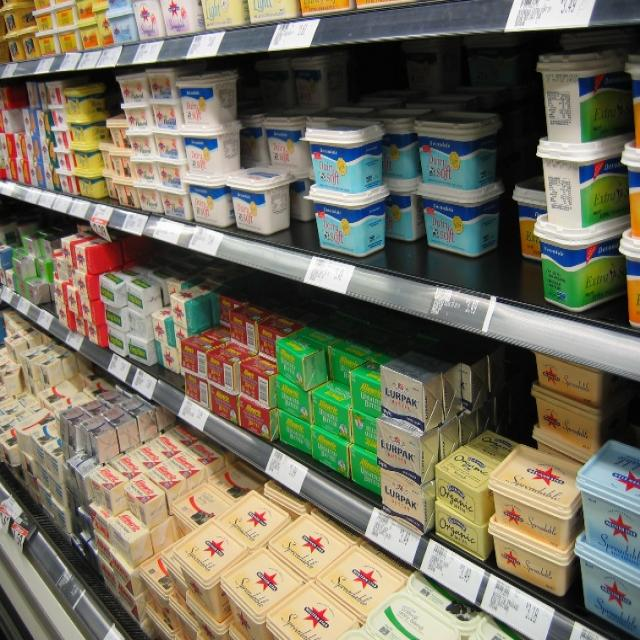q289: (492, 441, 582, 529), (162, 515, 248, 582), (218, 554, 301, 618), (492, 530, 574, 592), (329, 541, 400, 608), (271, 505, 343, 568), (533, 390, 604, 450), (230, 484, 284, 548)
